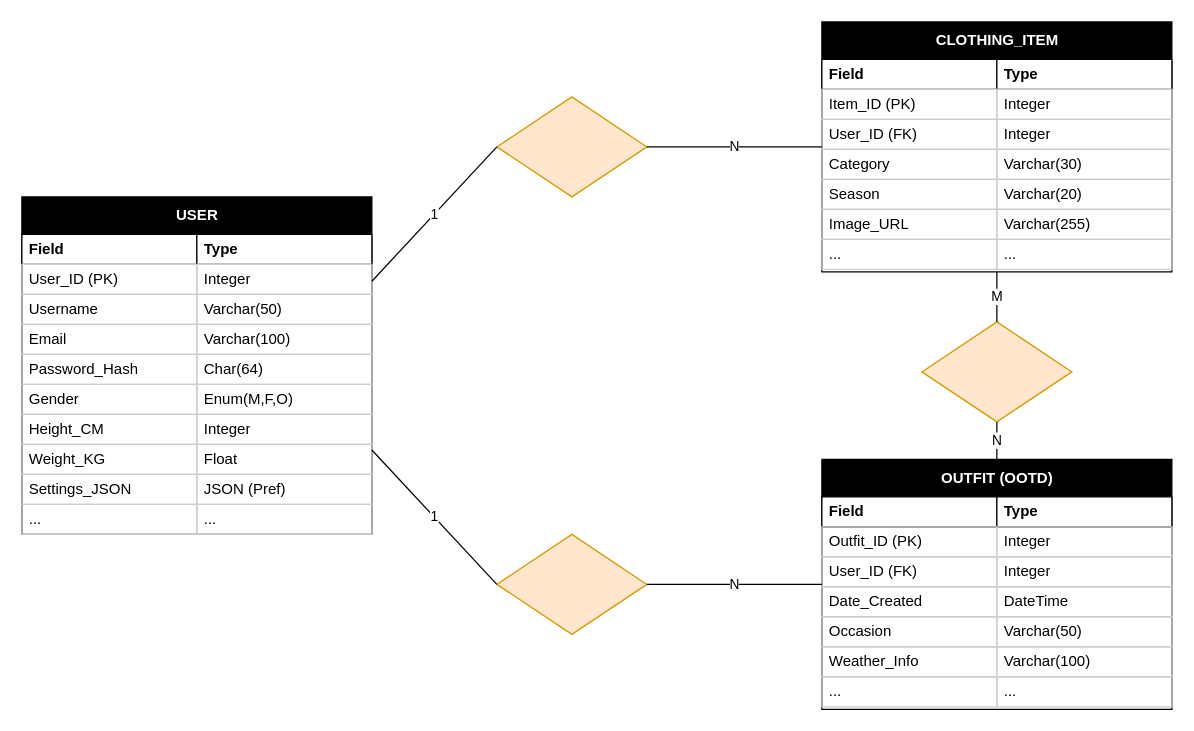
This 1194x731 diagram has some shape labels left out. Here are the shapes that lost their labels. From the top down, the centre of each, then its label:
At point 571,146: "OWNS".
At point 996,371: "CONTAINS".
At point 571,583: "GENERATES".
